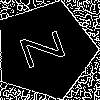Z: (20, 25, 76, 69)
